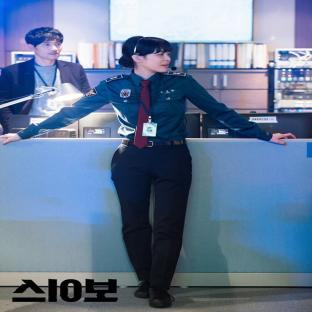Human: (2, 36, 295, 307)
